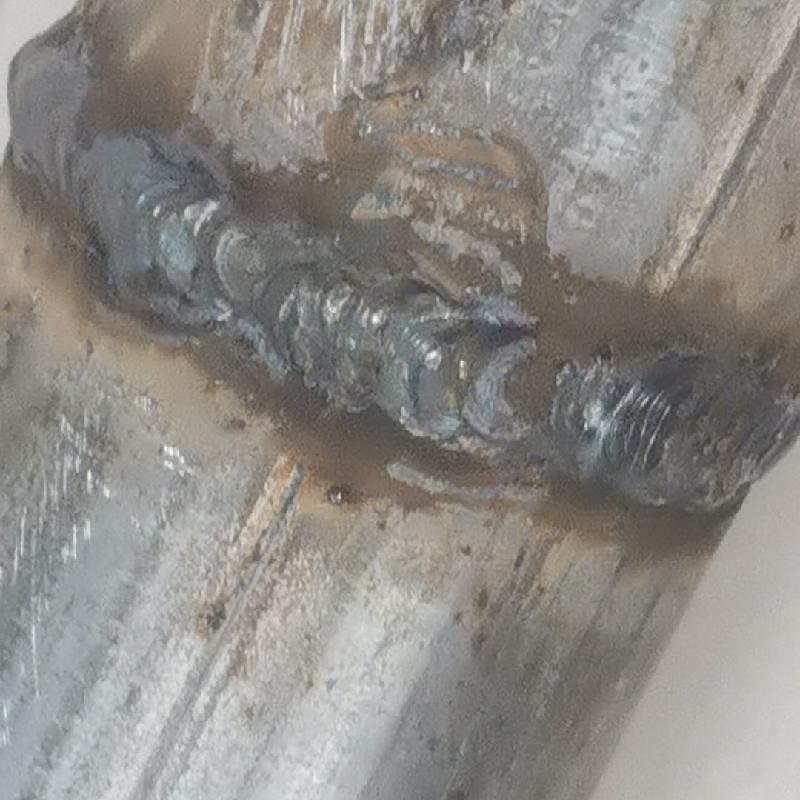good: (3, 20, 798, 521)
